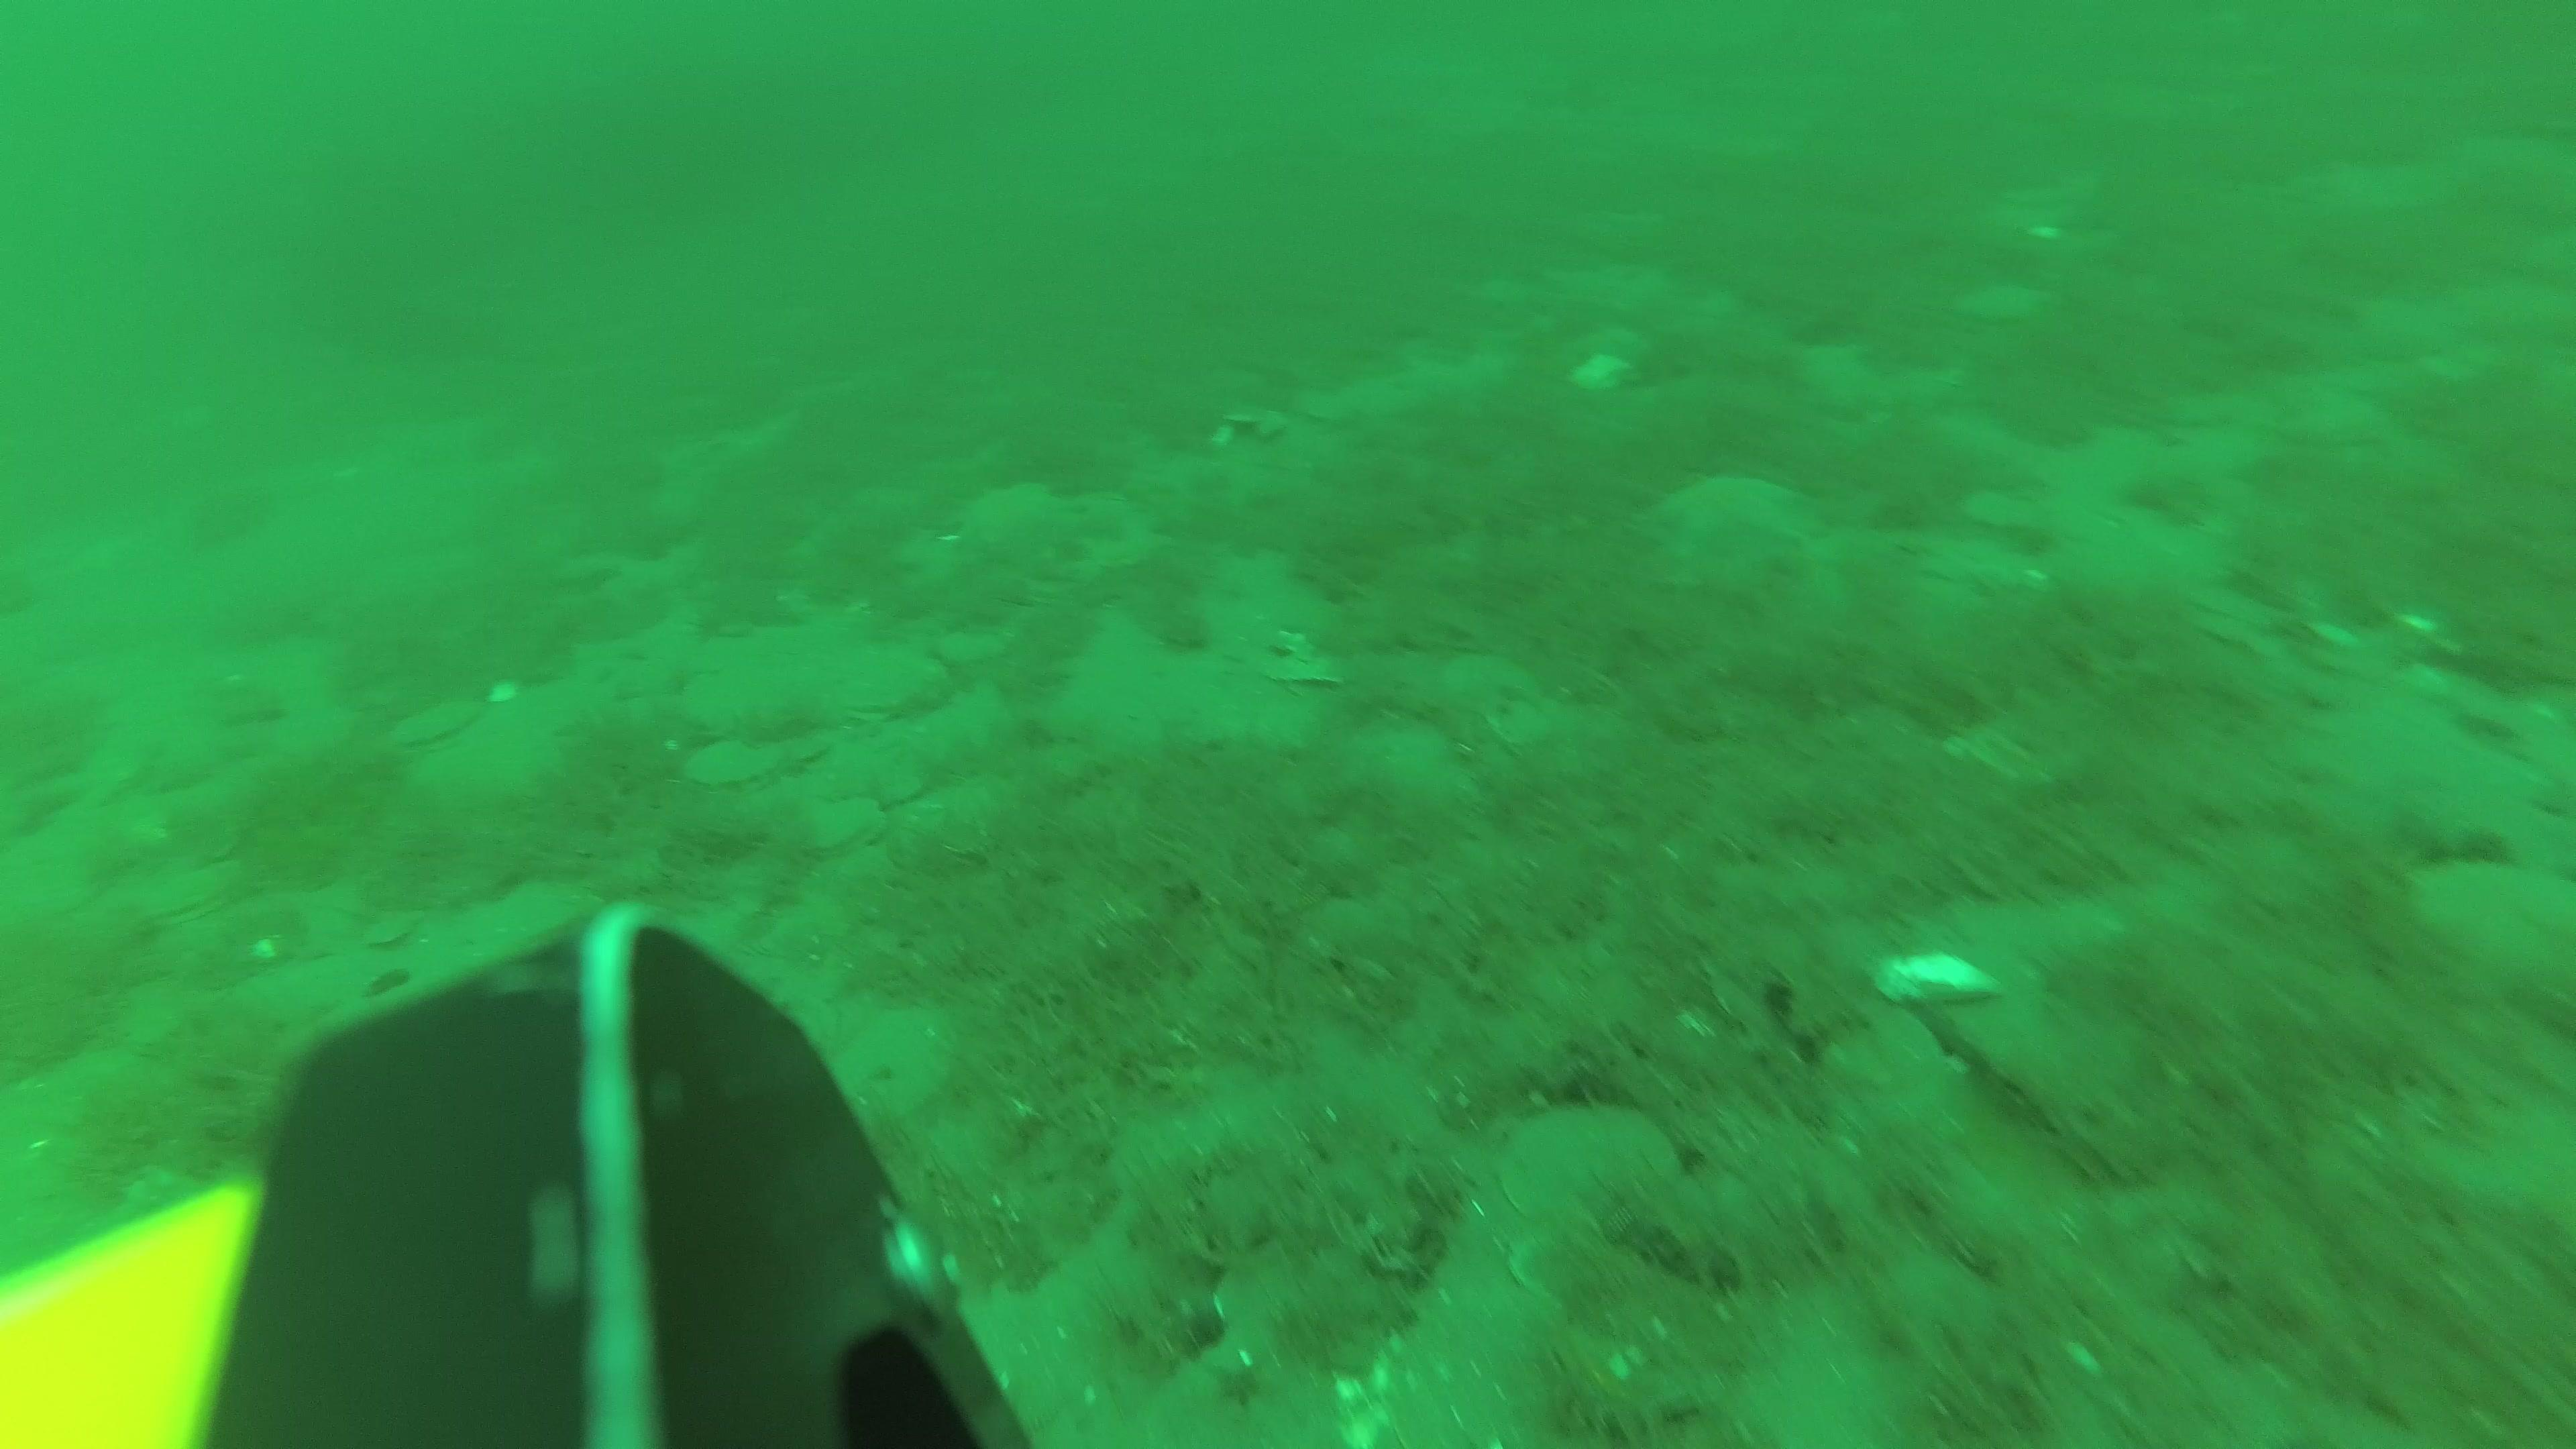scallop: (2406, 855, 2576, 977), (1504, 1111, 1683, 1219), (145, 858, 248, 931), (847, 653, 938, 717), (805, 798, 885, 858), (685, 738, 777, 789), (396, 701, 472, 747)
starfish: (1647, 474, 1812, 589), (952, 487, 1074, 570)
